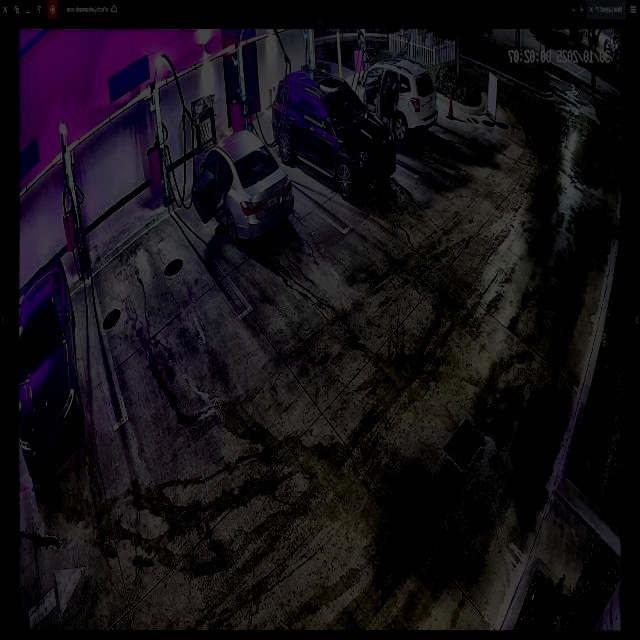Car: (272, 67, 394, 197), (190, 131, 294, 246)
